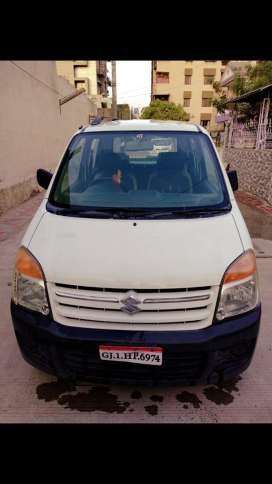license_plate: (94, 343, 167, 369)
